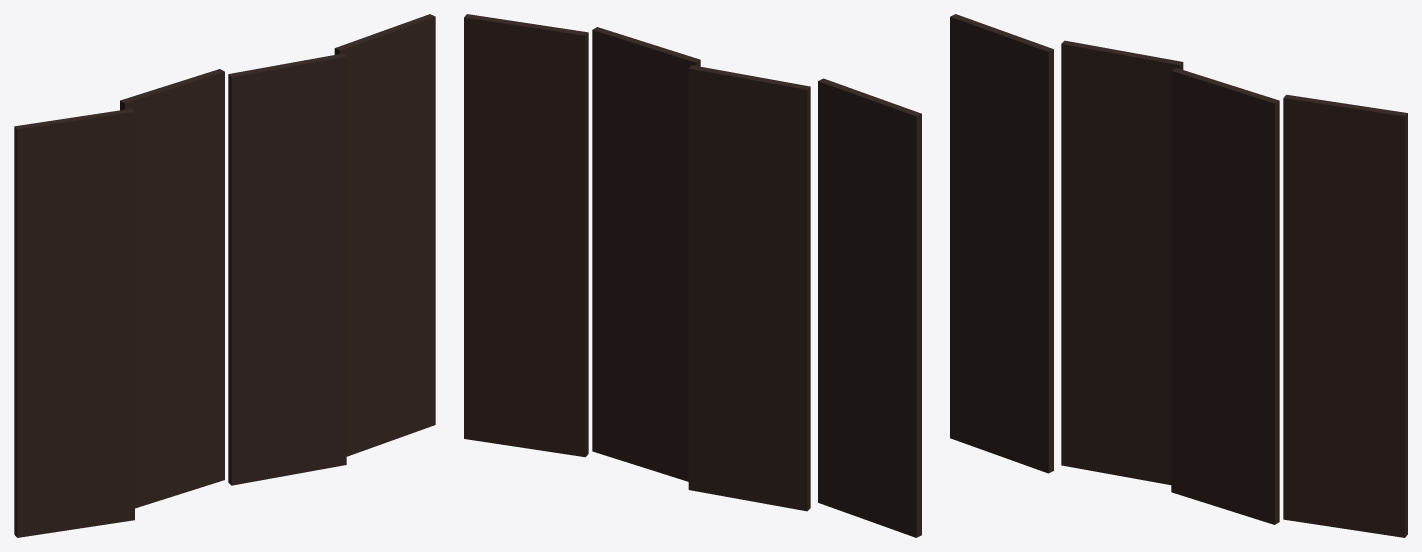
The model's file is scholar_screen.glb.
3 renders of one model, left to right at view 1: azimuth 30°, elevation 25°; view 2: azimuth 150°, elevation 25°; view 3: azimuth 330°, elevation 25°, orthographic. The views are drawn at different scales.
Visible parts, largest first — view 1: Imperial_Scholar_Screen_Master; view 2: Imperial_Scholar_Screen_Master; view 3: Imperial_Scholar_Screen_Master.
Boxes of the visible parts, bbox=[...] form: Imperial_Scholar_Screen_Master: bbox=[14, 14, 435, 537]; Imperial_Scholar_Screen_Master: bbox=[464, 14, 921, 537]; Imperial_Scholar_Screen_Master: bbox=[950, 14, 1407, 537].
Bounding box in the file's own units: 2.7 × 2.45 × 0.2878.
